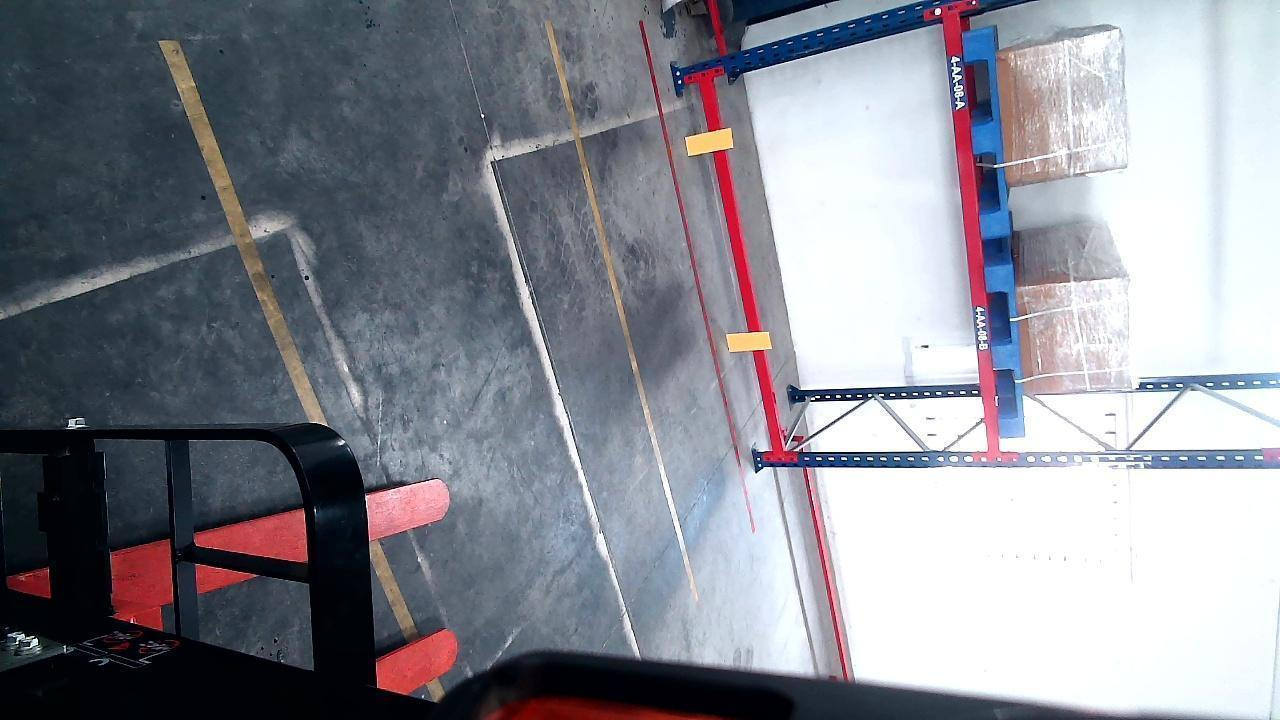red_line: (638, 17, 758, 543)
yellow_line: (159, 37, 417, 637), (543, 7, 707, 611)
